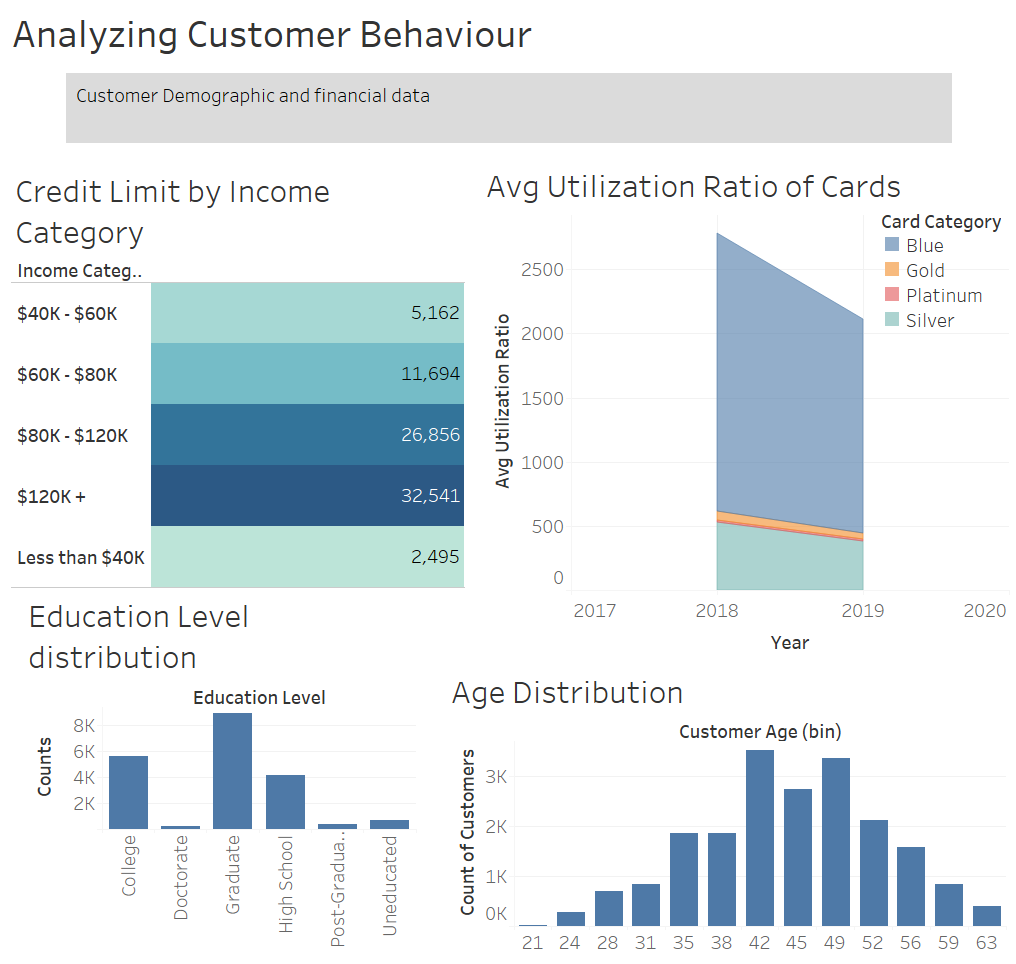

Layout of this report page (visuals, bound fields, positions):
{"tool":"tableau","page":{"name":"Customer Behaviour","canvas":[1000,800],"ordinal":0},"visuals":[{"type":"worksheet","title":"Credit Limit by Income Category","mark":"Square","rows":["Income_Category"],"box":[3,4,454,425]},{"type":"legend","title":"Avg Utilization Ratio of Cards","param":"[federated.11b5pey03qgv9p16d8ego019tgdf].[none:Card_Category:nk]","box":[872,47,121,129]},{"type":"worksheet","title":"Education Level distribution","mark":"Automatic","rows":["info!all_7AE7770B61294F7783960E9D42F00851"],"cols":["Education_Level"],"box":[16,429,392,361]},{"type":"worksheet","title":"Customer Age Distribution","mark":"Automatic","rows":["Customer_Age"],"cols":["Customer Age (bin)"],"box":[439,505,559,291]}]}

Visuals, with their boxes on the page's 1000x800 design canvas (x1, y1, x2, y2). These are canvas units, not pixel positions in the 1016x964 screenshot, which may show the page scaled, cropped or inside an application window:
"Credit Limit by Income Category" worksheet (Square marks): rect(3, 4, 457, 429)
"Avg Utilization Ratio of Cards" legend: rect(872, 47, 993, 176)
"Education Level distribution" worksheet: rect(16, 429, 408, 790)
"Customer Age Distribution" worksheet: rect(439, 505, 998, 796)
